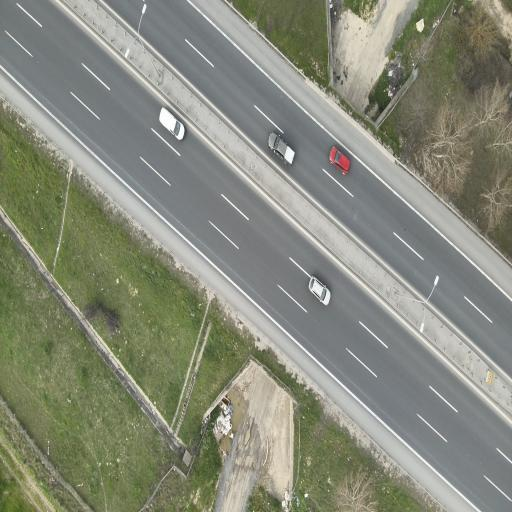car: (269, 133, 294, 164), (160, 108, 184, 140), (309, 276, 330, 305), (330, 147, 349, 174)
